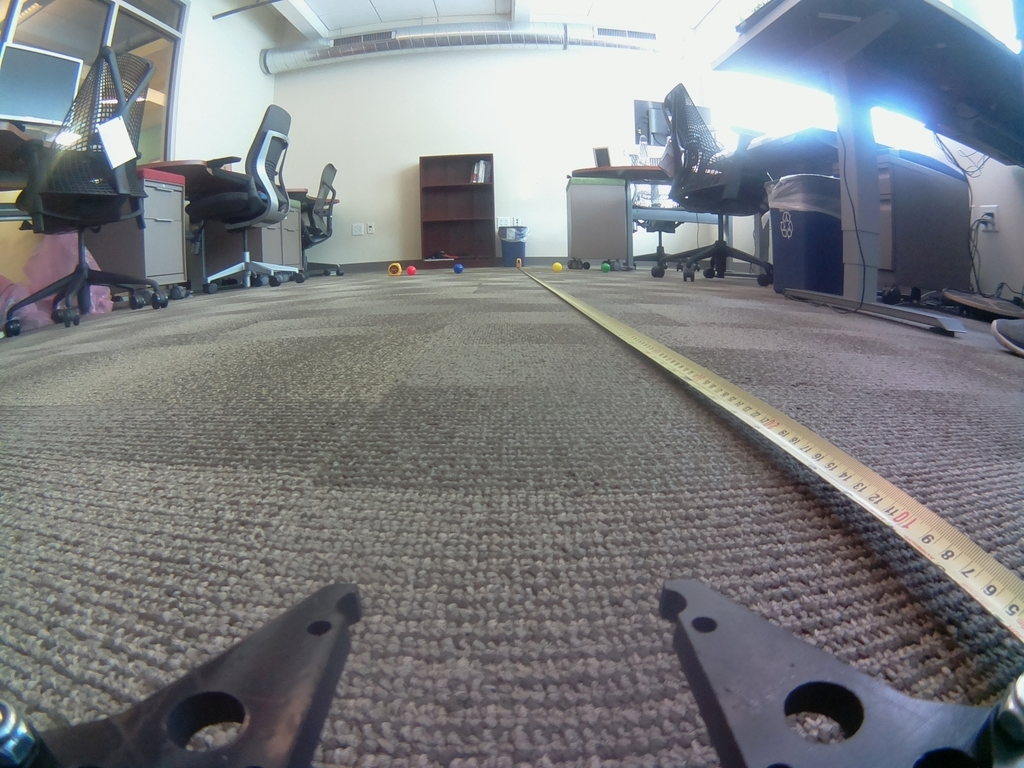ball: (406, 265, 416, 276)
